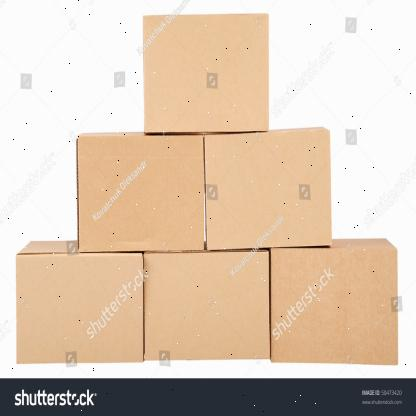box: (269, 248, 399, 366), (205, 133, 332, 250), (145, 14, 269, 132), (77, 135, 203, 251), (16, 252, 145, 364), (143, 249, 270, 360)
